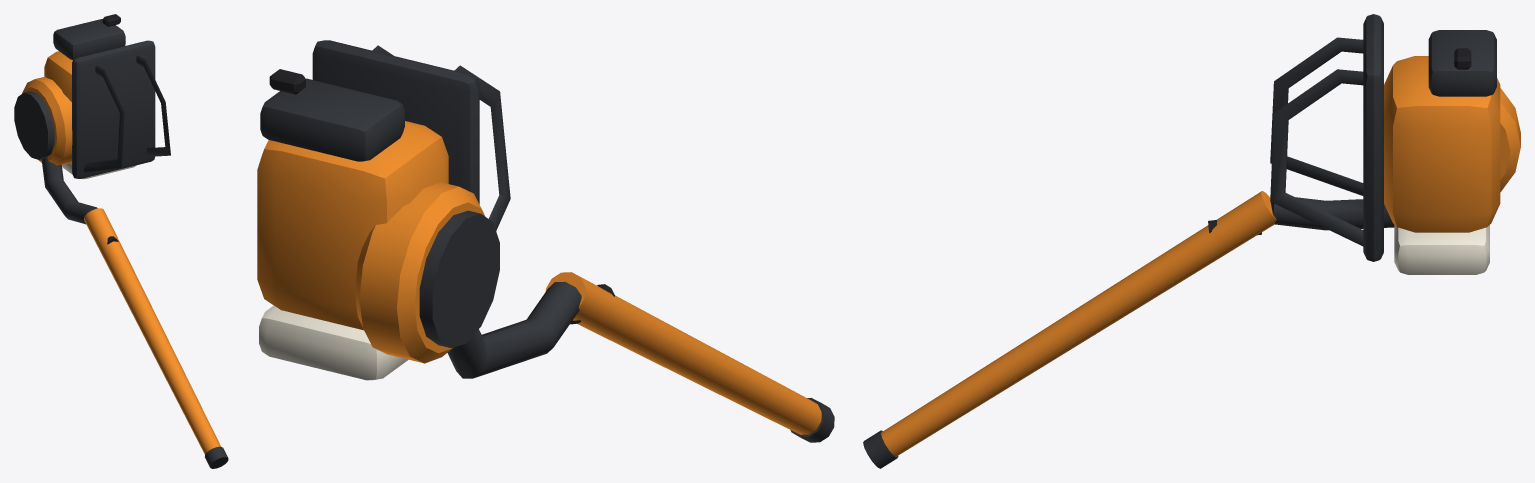
The model's file is tool_backpack.glb.
The picture shows the model from 3 angles, left to right: view 1: azimuth 30°, elevation 25°; view 2: azimuth 150°, elevation 25°; view 3: azimuth 270°, elevation 25°; orthographic projection. The views are drawn at different scales.
Visible parts, largest first — view 1: Tool; view 2: Tool; view 3: Tool.
Part boxes in pixels (<box>): Tool: <box>14,14,228,468</box>; Tool: <box>257,40,834,442</box>; Tool: <box>863,14,1520,468</box>.
Bounding box in the file's own units: 0.5642 × 1.53 × 1.92.
